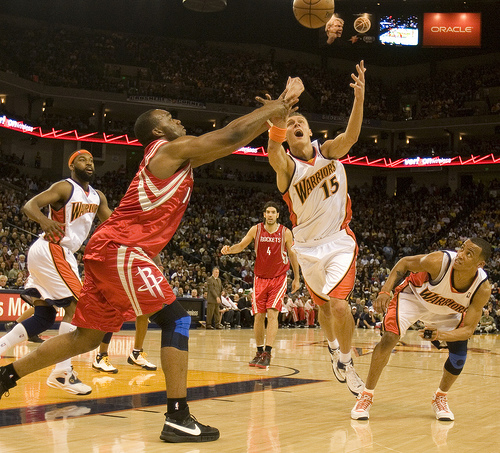basketball: (291, 1, 334, 27)
